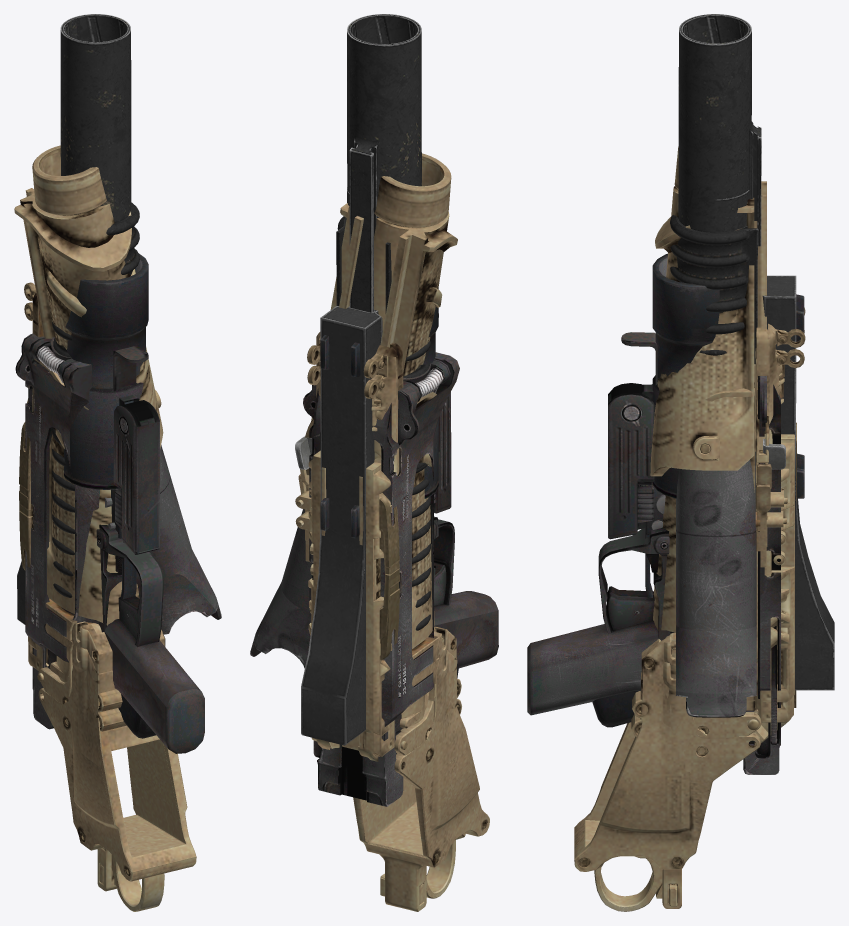
3 views of the same model, side by side, from view 1: azimuth 30°, elevation 25°; view 2: azimuth 150°, elevation 25°; view 3: azimuth 270°, elevation 25° (orthographic). The views are drawn at different scales.
Parts seen in each view (by area): view 1: M320_GL, Scar_GL_open, Scar_GL, M203_GL_open, GP30_GL, M320_GL_open, M203_GL, GP30_GL_open; view 2: Scar_GL_open, M320_GL, M203_GL, Scar_GL, M203_GL_open, M320_GL_open, GP30_GL, GP30_GL_open; view 3: Scar_GL, M320_GL, Scar_GL_open, M203_GL_open, M320_GL_open, M203_GL, GP30_GL, GP30_GL_open.
Part boxes in pixels (x1,y1,x2,y2): M320_GL: (15,333,204,753); Scar_GL_open: (14,145,196,910); Scar_GL: (19,282,195,911); M203_GL_open: (52,14,139,445); GP30_GL: (65,262,155,738); M320_GL_open: (51,337,221,634); M203_GL: (17,429,74,624); GP30_GL_open: (64,254,147,735); Scar_GL_open: (295,153,489,909); M320_GL: (303,313,498,806); M203_GL: (295,187,430,745); Scar_GL: (295,332,489,911); M203_GL_open: (336,14,430,473); M320_GL_open: (250,363,430,668); GP30_GL: (325,288,458,678); GP30_GL_open: (320,309,435,538); Scar_GL: (575,307,805,911); M320_GL: (527,332,780,774); Scar_GL_open: (574,146,804,908); M203_GL_open: (670,14,761,364); M320_GL_open: (676,451,756,717); M203_GL: (715,190,834,690); GP30_GL: (592,253,804,727); GP30_GL_open: (600,255,804,727).
Bounding box in the file's own units: 0.0858 × 0.3804 × 0.1208.
